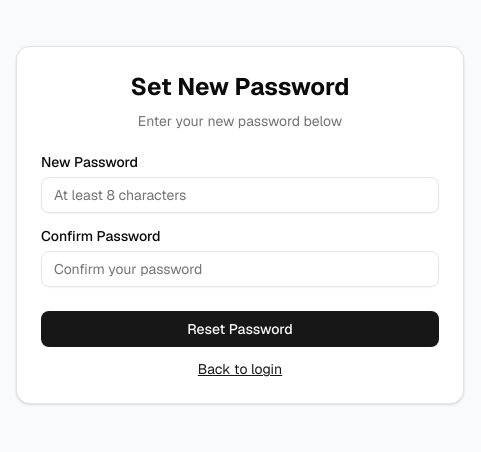
Test: ResetPasswordPage › shows error for short password
Type "short" into the password field labelled "New Password".
click(240, 195); type("short")  # box [41,177,439,213]
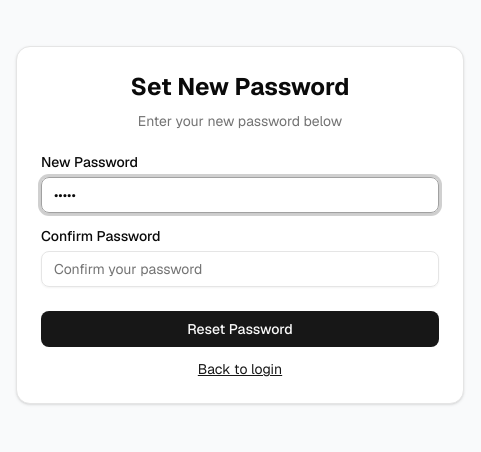
Type "short" into the password field labelled "Confirm Password".
click(240, 269); type("short")  # box [41,251,439,287]
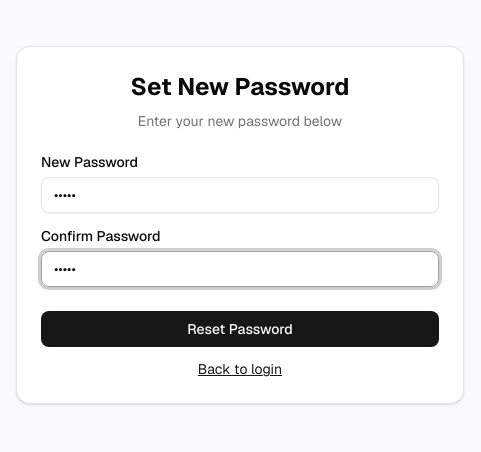
Click the button "Reset Password".
click(240, 329)  # box [41,311,439,347]
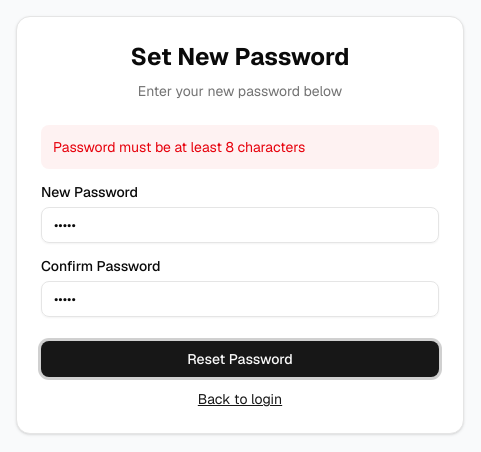
Now the text "Password must be at least 8 characters" is shown, box [41,125,439,169]
